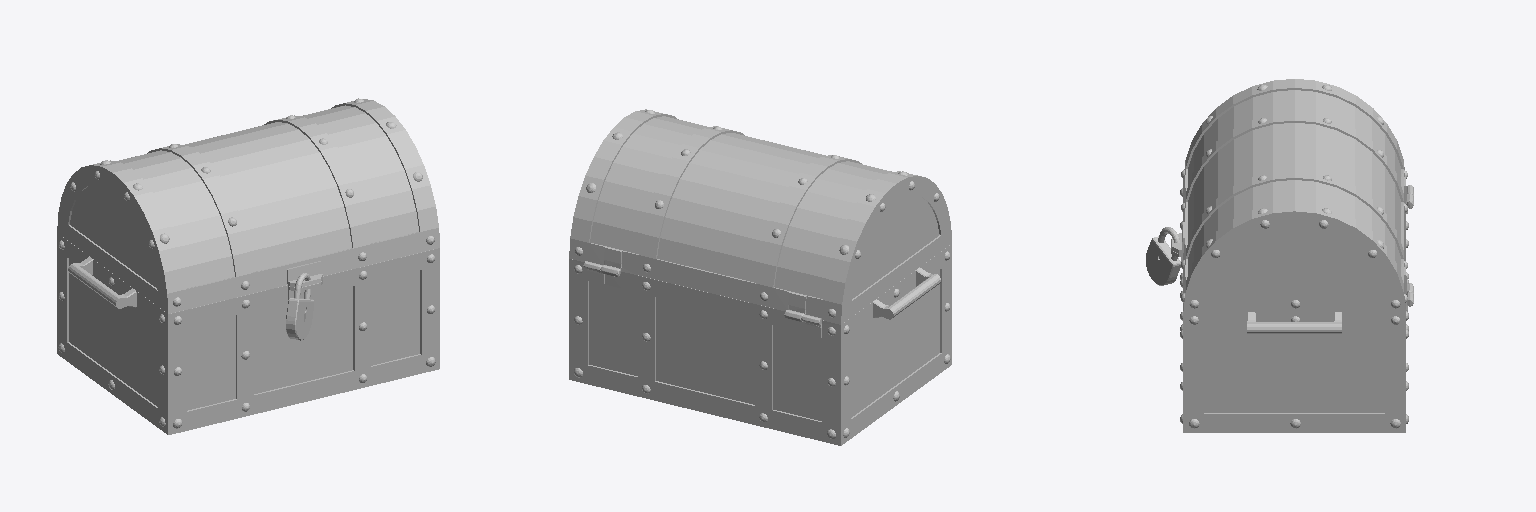
The model's file is chest.obj.
The picture shows the model from 3 angles: view 1: azimuth 30°, elevation 25°; view 2: azimuth 150°, elevation 25°; view 3: azimuth 270°, elevation 25°; orthographic projection.
Parts seen in each view (by area): view 1: top, framebottom, frametop, chest, side panels, rivets, lock; view 2: top, framebottom, frametop, chest, side panels, rivets; view 3: side panels, top, frametop, framebottom, rivets, lock.
Boxes of the visible parts, <box> form: top: <box>116,105,418,288</box>; framebottom: <box>57,233,439,434</box>; frametop: <box>57,99,439,313</box>; chest: <box>187,270,419,410</box>; side panels: <box>69,184,157,406</box>; rivets: <box>58,98,435,428</box>; lock: <box>286,273,313,340</box>; top: <box>590,116,891,298</box>; framebottom: <box>569,244,951,445</box>; frametop: <box>569,109,951,324</box>; chest: <box>589,282,821,420</box>; side panels: <box>851,195,939,417</box>; rivets: <box>574,110,950,438</box>; side panels: <box>1204,229,1384,412</box>; top: <box>1188,90,1400,273</box>; frametop: <box>1171,79,1413,311</box>; framebottom: <box>1171,185,1413,432</box>; rivets: <box>1180,85,1408,428</box>; lock: <box>1146,227,1180,285</box>.
Bounding box in the file's own units: 3.32 × 2.25 × 2.47.